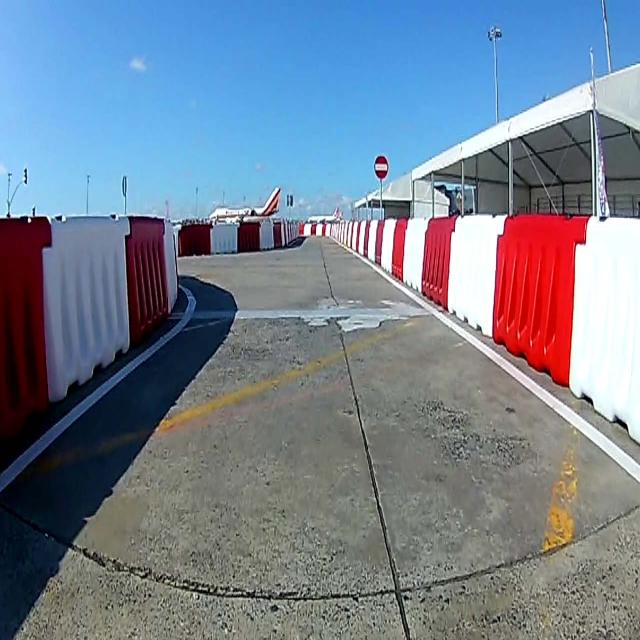girisyok: (374, 156, 389, 182)
